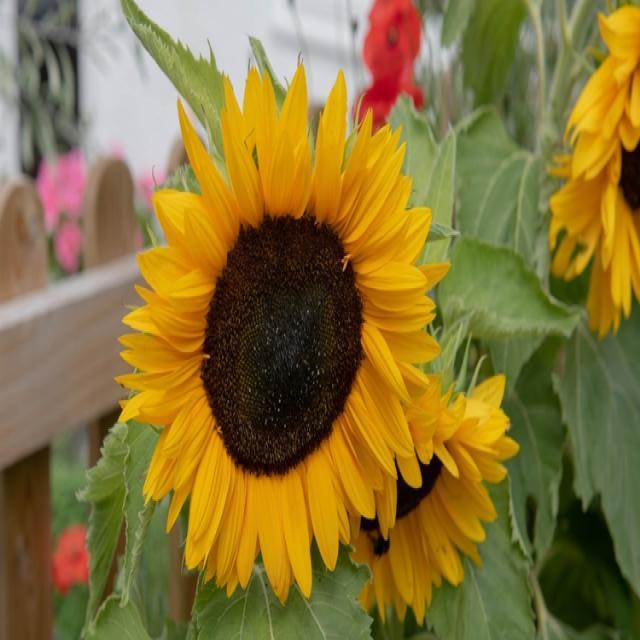sunflower: (113, 59, 450, 606), (348, 373, 520, 624), (546, 4, 639, 340)
